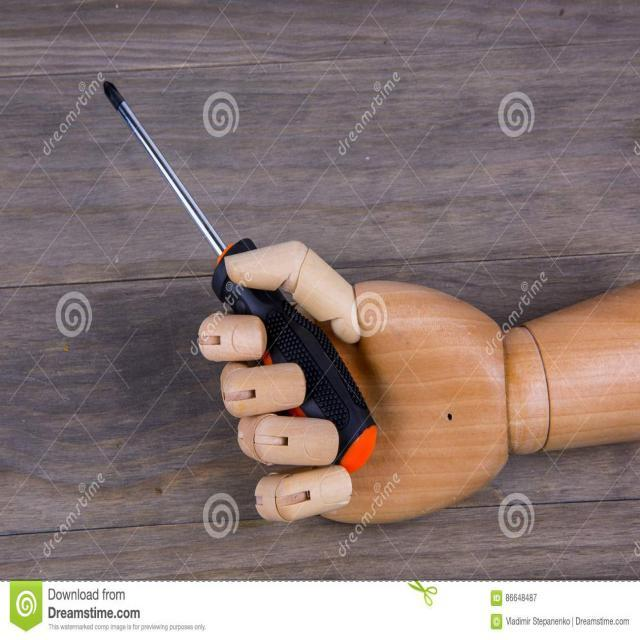screwdriver: (99, 74, 381, 476)
